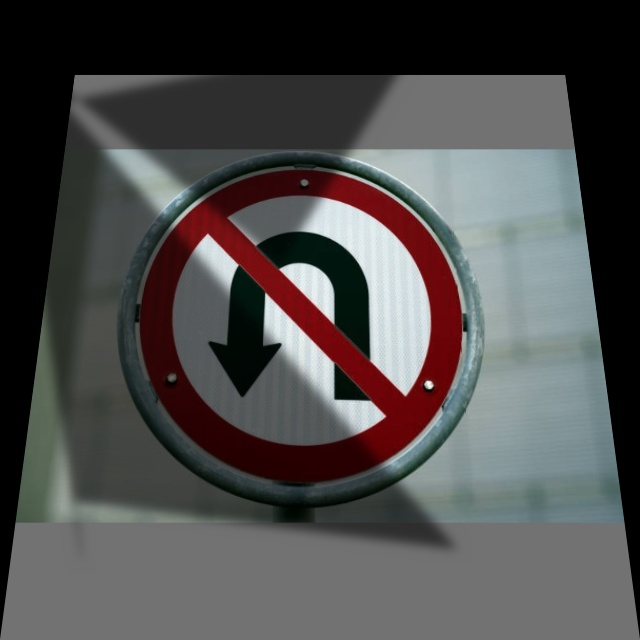U_Turn_Prohibited: (102, 148, 483, 501)
